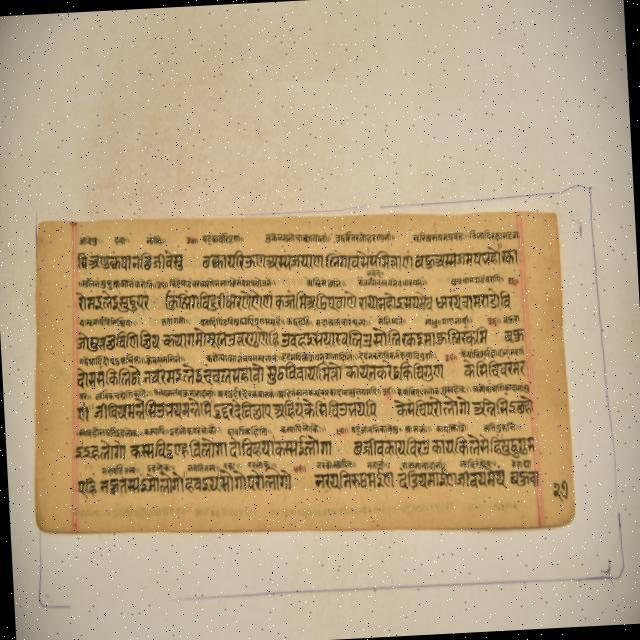text_paragraph: (36, 211, 576, 529)
